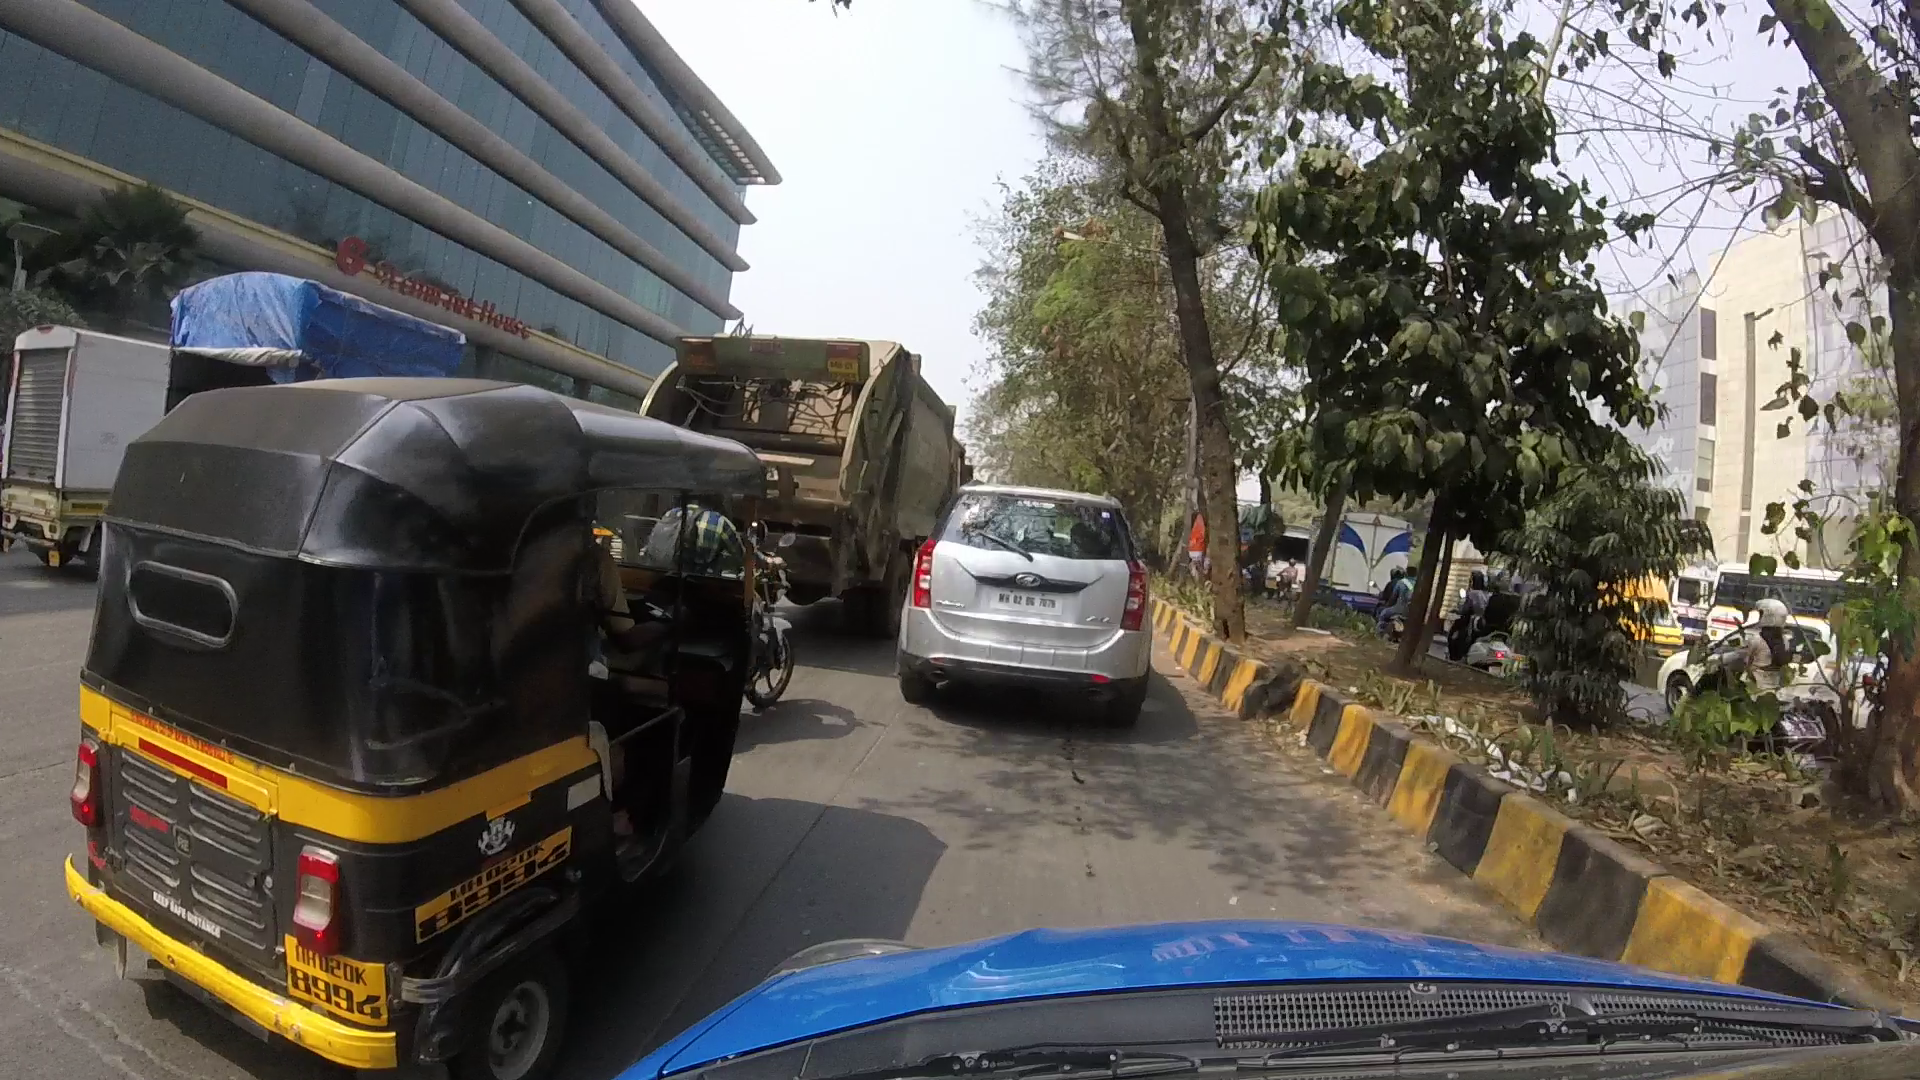car: (911, 489, 1153, 695)
rickshaw: (75, 369, 766, 1054)
truck: (640, 342, 955, 597), (5, 307, 269, 568), (185, 269, 462, 401)
